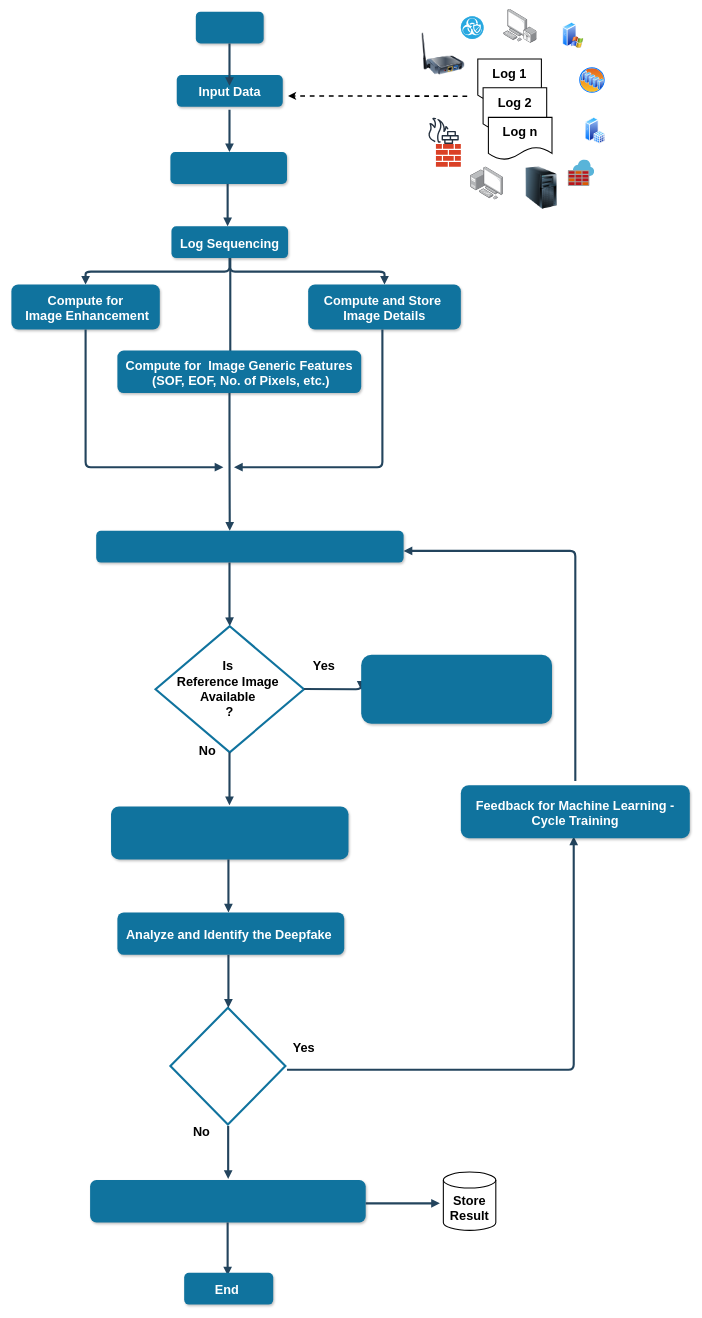
The diagram is 702 pixels wide and 1318 high, and some of its shapes have lost their labels. Here are the shapes that lost their labels. From the top down, the centre of each, then its label:
At pixel 230 28: "Start".
At pixel 229 168: "Pre - Processing".
At pixel 250 547: "Pixel or Block Wise Feature Extraction".
At pixel 457 689: "Compare image features (Bit-wise or Block-wise)".
At pixel 230 833: "Apply AI/ML/GA Based Ant Colony Optimization Algorithm".
At pixel 227 1065: "Is Any Error Propagation Found ?".
At pixel 228 1202: "Image Final Verification and Identification".
